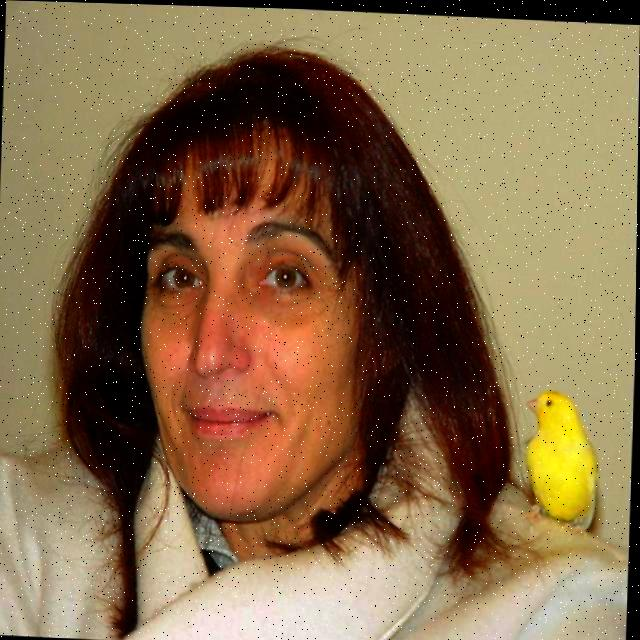puffy_eyes: (250, 284, 315, 323), (148, 288, 207, 319)
